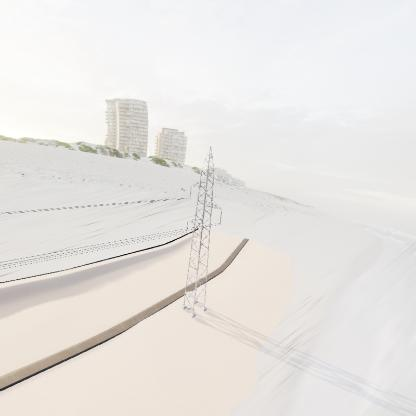tower: (179, 138, 226, 319)
